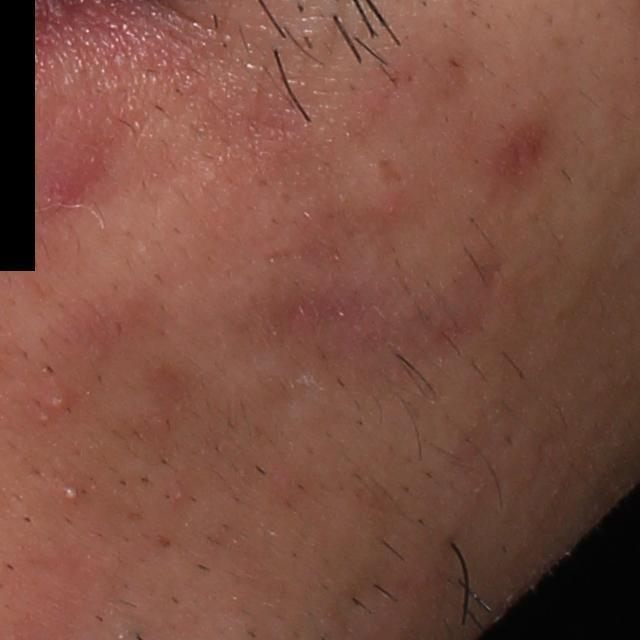pustule: (41, 388, 71, 415), (58, 477, 86, 505)
